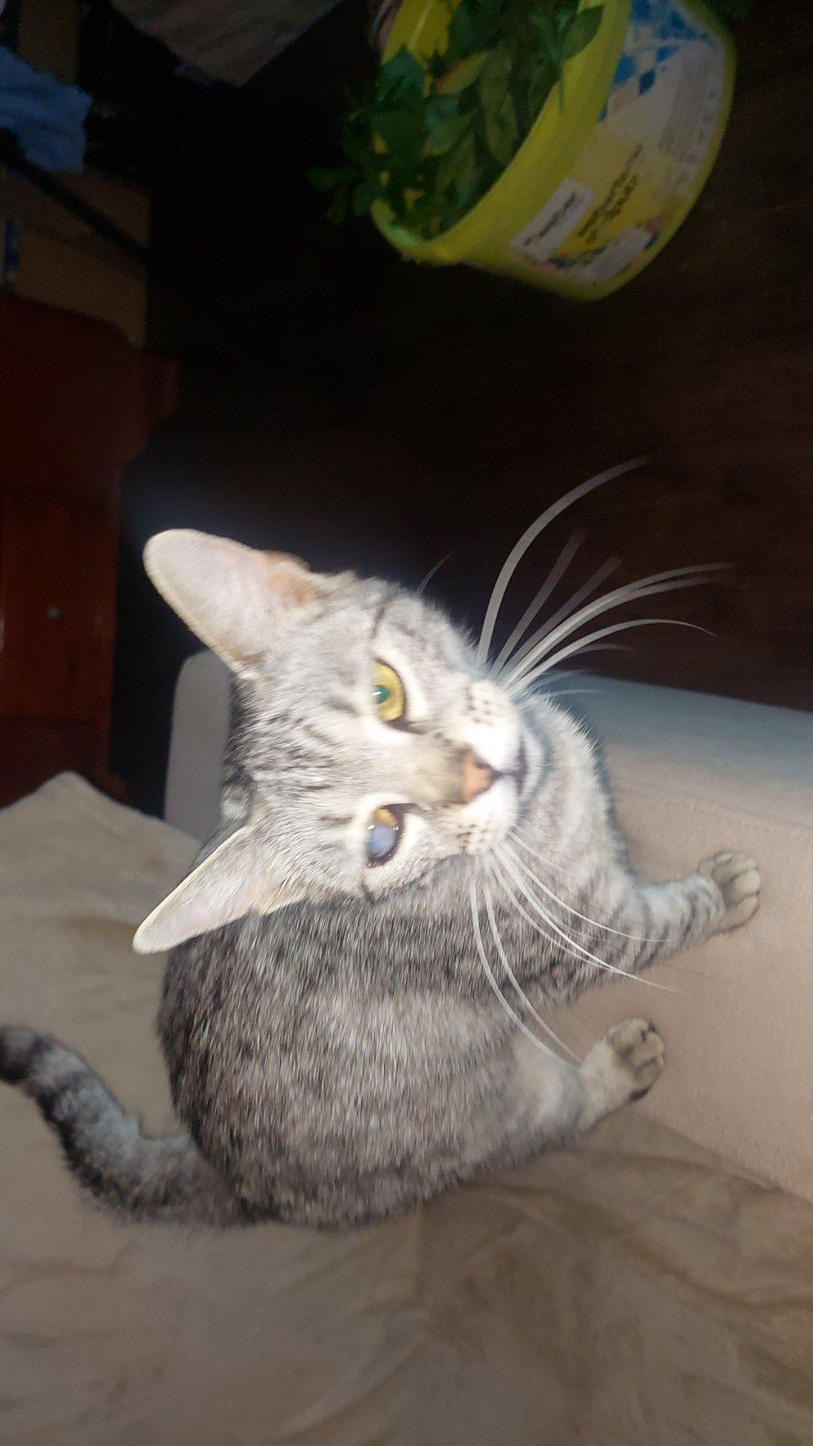macka: (6, 519, 770, 1234)
